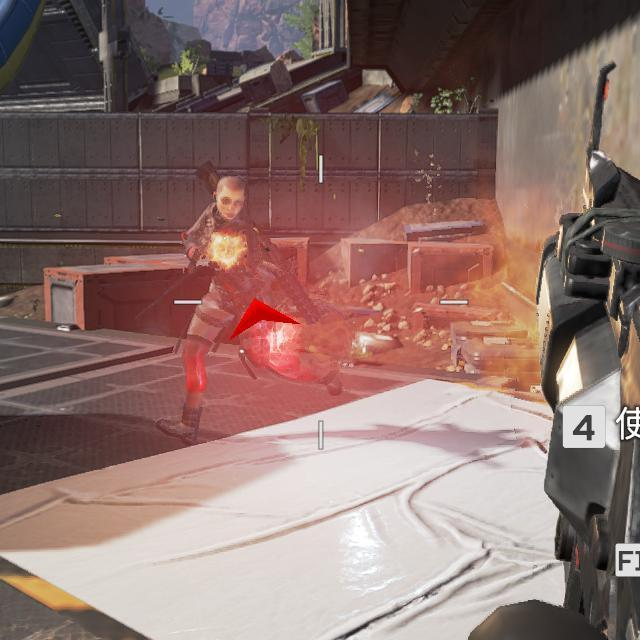avatar: (157, 171, 270, 445)
